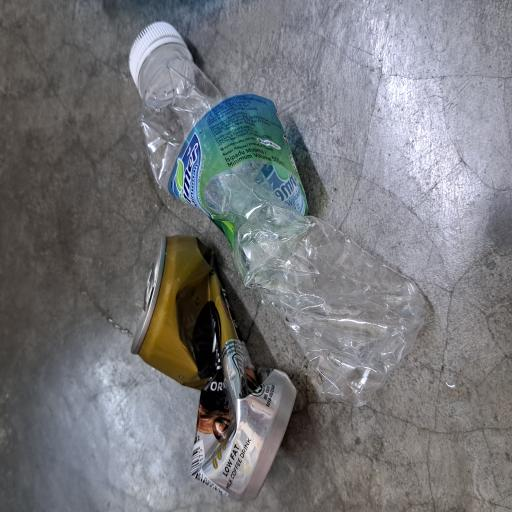can: (8, 173, 210, 398)
plastic bottle: (78, 182, 351, 512)
plastic bottle cap: (320, 173, 370, 248)
pop tab: (150, 191, 187, 206)
